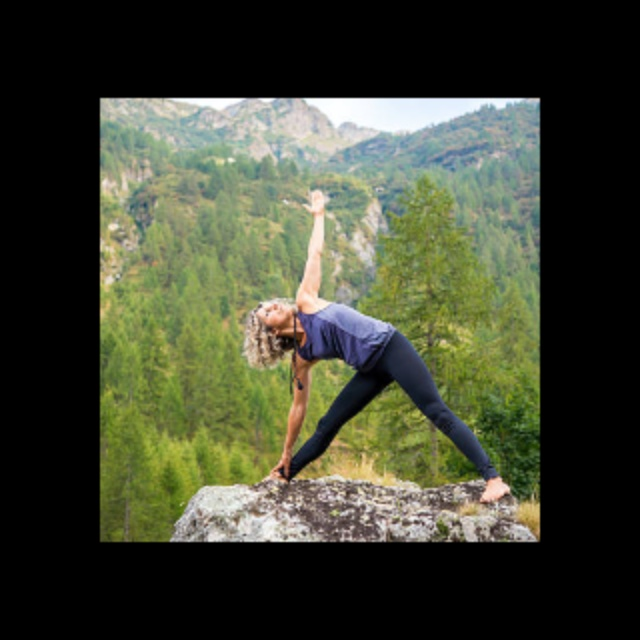Triangle_Pose: (234, 184, 519, 508)
